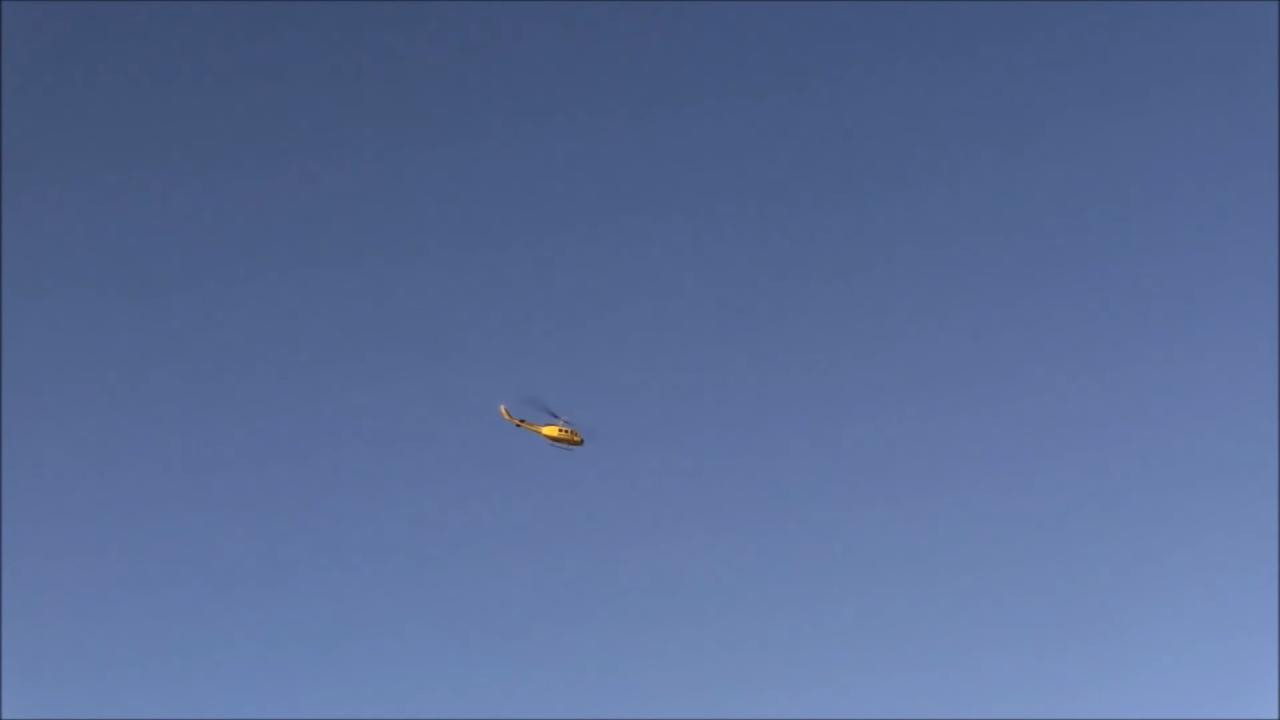Helicopter: (483, 394, 594, 460)
